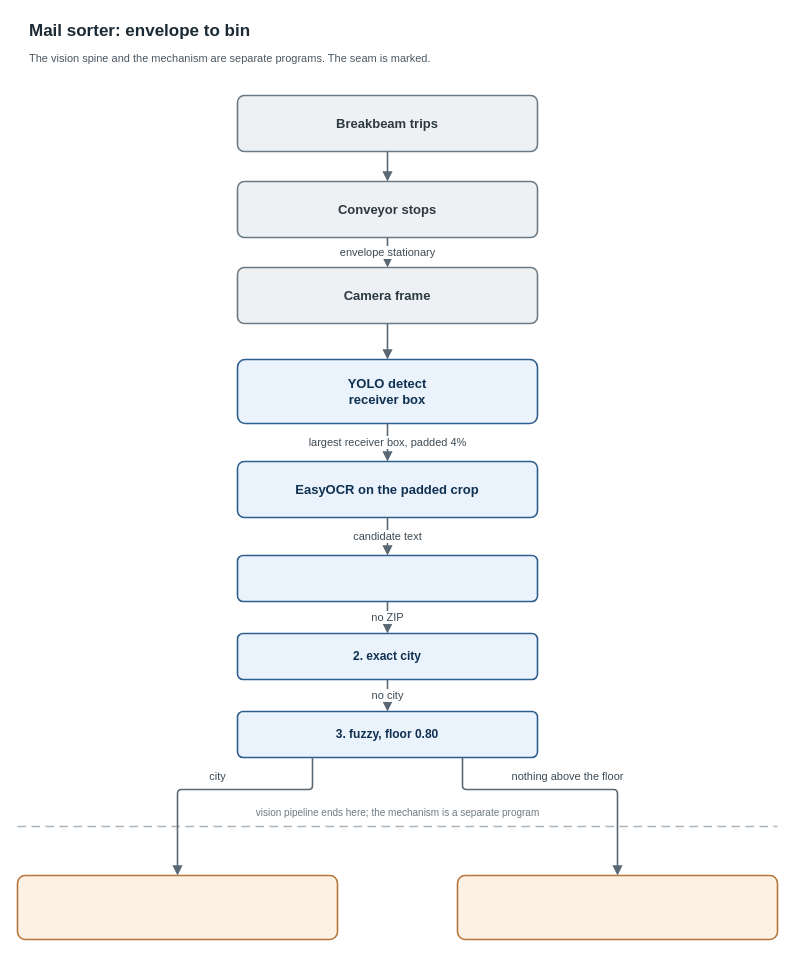
Some shapes in this 796 by 957 pixel diagram are drawn without their labels. The centre of each missing label's shape, as x and y in pixels:
"1. exact ZIP" belongs at point (387, 578).
"Stepper rotates the bin AS5600 confirms the angle" belongs at point (177, 907).
"unknown bin" belongs at point (617, 907).
